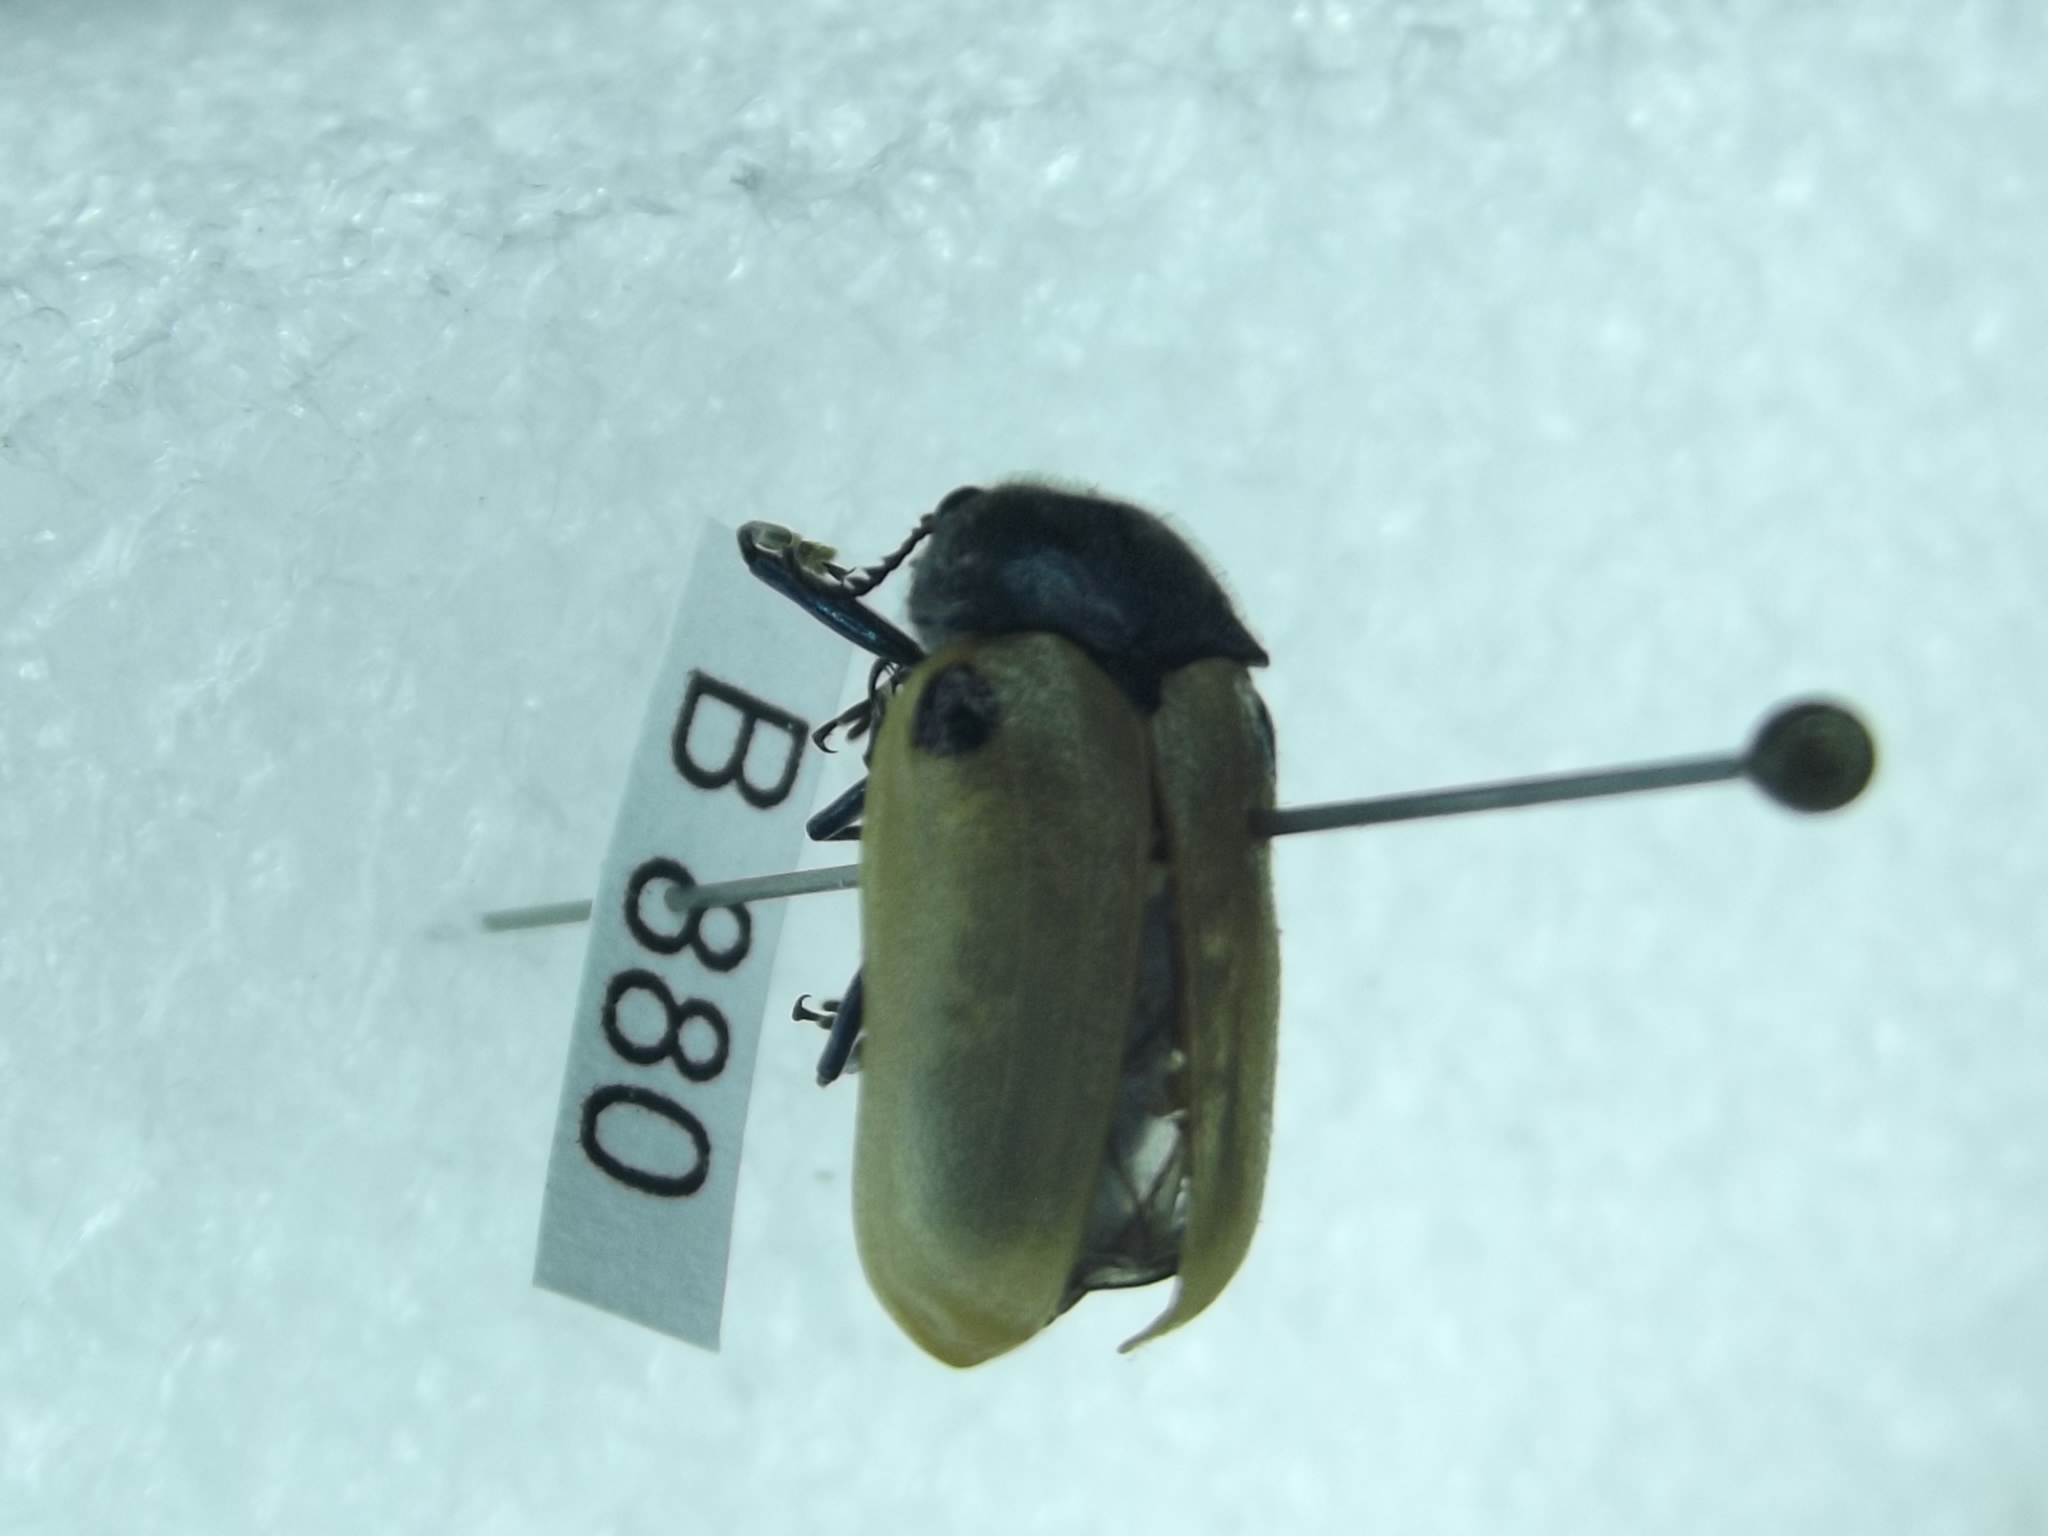Labidostomis_asiatica: (727, 470, 1329, 1362)
